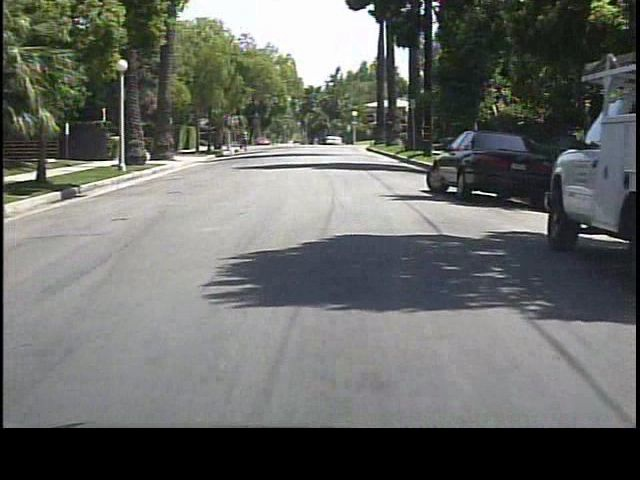person: (240, 128, 253, 157)
